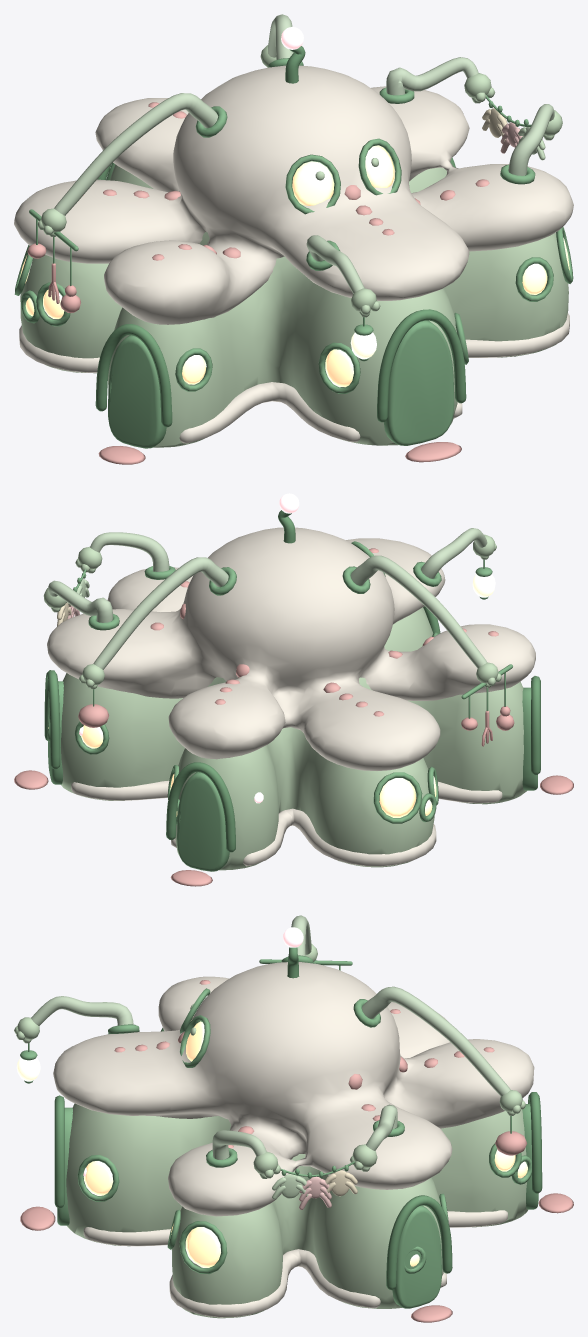
File: house_06_0610.fbx
3 views of the same model, one above another, from view 1: azimuth 30°, elevation 25°; view 2: azimuth 150°, elevation 25°; view 3: azimuth 270°, elevation 25° (orthographic). The views are drawn at different scales.
Visible parts, largest first — view 1: Tawan_RoofMantle, Tawan_Body, Tawan_Door_Main, Tawan_WindowRims, Tawan_BaseCushion, Tawan_Windows, Tawan_Door_FrontLeft, Tawan_Arm_ToolsL, Tawan_DoorRim_Main, Tawan_DoorRim_FrontLeft, Tawan_ArmHands, Tawan_Arm_ClothesB (+8 smaller); view 2: Tawan_RoofMantle, Tawan_Body, Tawan_BaseCushion, Tawan_Door_Back, Tawan_Arm_ToolsL, Tawan_Arm_ToolsBack, Tawan_WindowRims, Tawan_ArmHands, Tawan_DoorRim_Back, Tawan_Windows, Tawan_Arm_ClothesA, Tawan_Tools (+10 smaller); view 3: Tawan_RoofMantle, Tawan_Body, Tawan_BaseCushion, Tawan_WindowRims, Tawan_Door_BackRight, Tawan_Windows, Tawan_Arm_ToolsBack, Tawan_ArmHands, Tawan_DoorRim_BackRight, Tawan_Arm_Lantern, Tawan_DoorRim_Main, Tawan_RoofDots (+12 smaller).
Part boxes in pixels (<box>): Tawan_RoofMantle: <box>14,65,573,324</box>; Tawan_Body: <box>20,164,568,447</box>; Tawan_Door_Main: <box>384,320,454,445</box>; Tawan_WindowRims: <box>14,138,573,393</box>; Tawan_BaseCushion: <box>19,313,569,443</box>; Tawan_Windows: <box>20,145,569,387</box>; Tawan_Door_FrontLeft: <box>108,335,166,448</box>; Tawan_Arm_ToolsL: <box>54,93,218,215</box>; Tawan_DoorRim_Main: <box>377,309,466,422</box>; Tawan_DoorRim_FrontLeft: <box>95,324,172,427</box>; Tawan_ArmHands: <box>37,45,562,317</box>; Tawan_Arm_ClothesB: <box>386,57,478,95</box>; Tawan_RoofMantle: <box>47,527,535,770</box>; Tawan_Body: <box>61,607,526,870</box>; Tawan_BaseCushion: <box>71,780,502,866</box>; Tawan_Door_Back: <box>177,772,229,871</box>; Tawan_Arm_ToolsL: <box>350,555,487,668</box>; Tawan_Arm_ToolsBack: <box>93,557,228,669</box>; Tawan_WindowRims: <box>47,541,438,824</box>; Tawan_ArmHands: <box>43,534,501,689</box>; Tawan_DoorRim_Back: <box>166,762,235,852</box>; Tawan_Windows: <box>48,725,436,817</box>; Tawan_Arm_ClothesA: <box>90,532,169,571</box>; Tawan_Tools: <box>78,704,514,746</box>; Tawan_RoofMantle: <box>53,962,534,1216</box>; Tawan_Body: <box>66,1103,527,1318</box>; Tawan_BaseCushion: <box>83,1210,507,1317</box>; Tawan_WindowRims: <box>77,988,531,1274</box>; Tawan_Door_BackRight: <box>392,1205,441,1308</box>; Tawan_Windows: <box>83,995,527,1267</box>; Tawan_Arm_ToolsBack: <box>362,986,510,1096</box>; Tawan_ArmHands: <box>14,943,525,1178</box>; Tawan_DoorRim_BackRight: <box>386,1195,452,1290</box>; Tawan_Arm_Lantern: <box>31,996,133,1025</box>; Tawan_DoorRim_Main: <box>54,1095,64,1208</box>; Tawan_RoofDots: <box>114,980,494,1148</box>.
Bounding box in the file's own units: 6.61 × 3.98 × 6.95.
